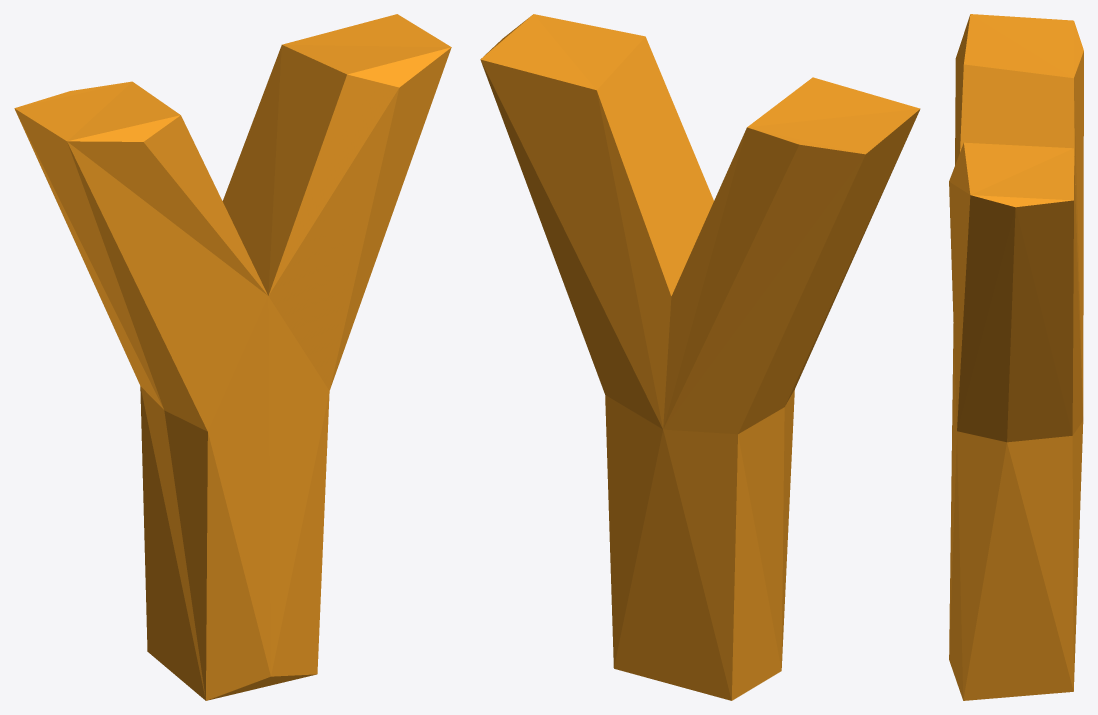
File: SM_Icon_Letter_Y_01.fbx
3 renders of one model, left to right at view 1: azimuth 30°, elevation 25°; view 2: azimuth 150°, elevation 25°; view 3: azimuth 270°, elevation 25°, orthographic. The views are drawn at different scales.
Visible parts, largest first — view 1: SM_Icon_Letter_Y_01; view 2: SM_Icon_Letter_Y_01; view 3: SM_Icon_Letter_Y_01.
Boxes of the visible parts, <box> form: SM_Icon_Letter_Y_01: <box>14,14,451,700</box>; SM_Icon_Letter_Y_01: <box>480,14,920,700</box>; SM_Icon_Letter_Y_01: <box>949,14,1083,700</box>.
Size of the model in its own units: 36.98 by 53.63 by 11.41.
